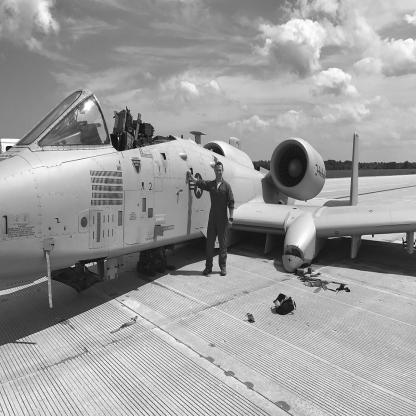A10: (1, 90, 416, 293)
